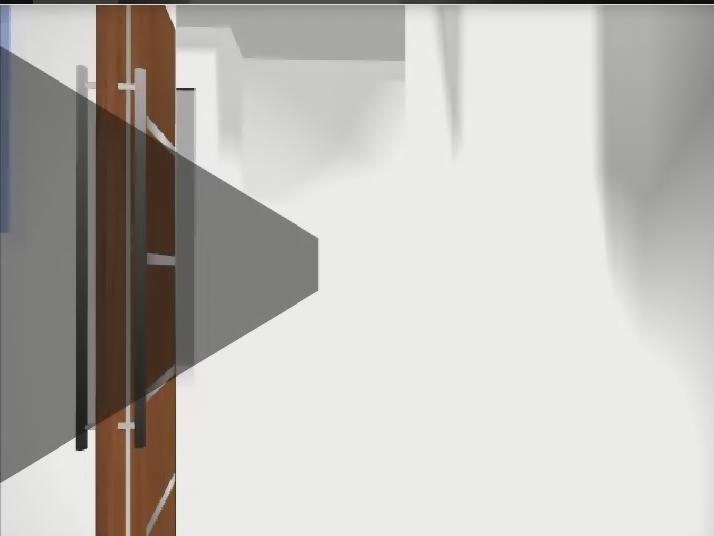door: (77, 5, 175, 536)
